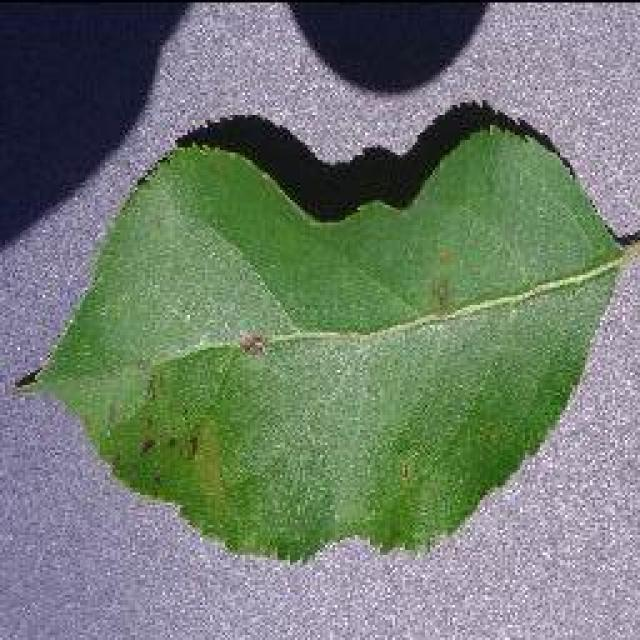apple scab disease: (12, 95, 638, 565)
